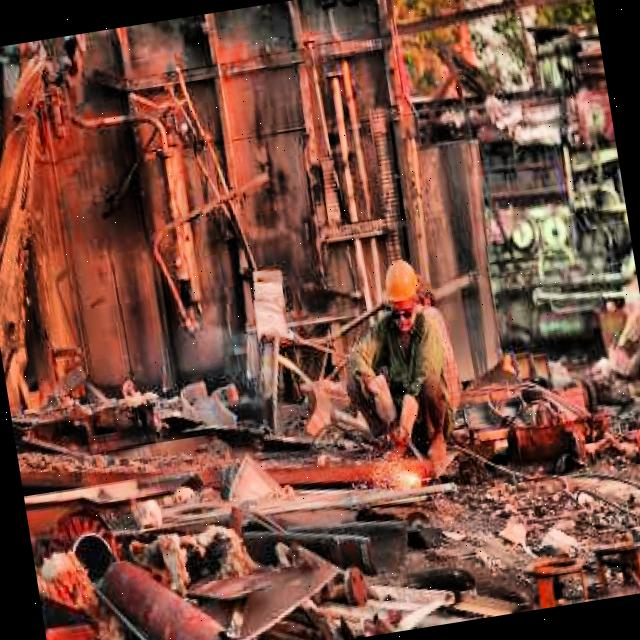helmet: (377, 254, 430, 330)
